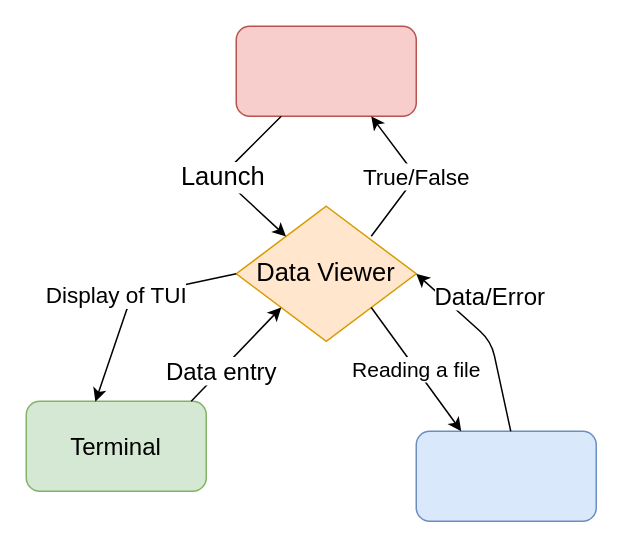
Some shapes in this 623 by 548 pixel diagram are drawn without their labels. Here are the shapes that lost their labels. From the top down, the centre of each, then its label:
At point 325,70: "USER".
At point 505,475: "File system".
